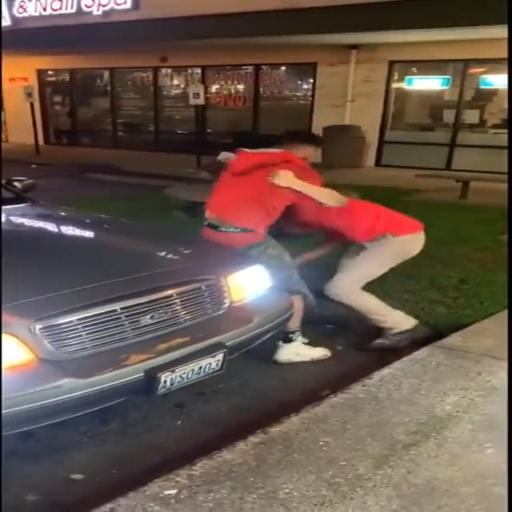violencia: (182, 123, 450, 373)
